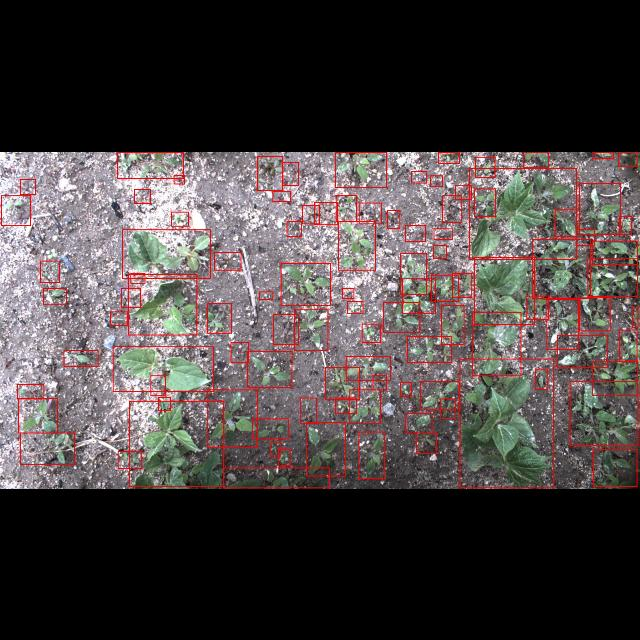crop: (460, 358, 554, 488), (469, 168, 576, 258), (128, 400, 224, 486), (112, 346, 214, 392), (122, 228, 210, 278), (128, 274, 198, 334), (474, 256, 534, 324), (472, 311, 522, 375)
weed: (570, 381, 638, 445), (532, 238, 590, 298), (207, 389, 257, 447), (306, 422, 346, 476), (224, 468, 330, 488), (281, 262, 331, 304), (580, 182, 620, 234), (338, 220, 376, 270), (588, 258, 638, 296), (20, 432, 74, 464), (117, 151, 183, 177), (336, 152, 386, 186), (593, 449, 637, 486), (546, 299, 578, 349), (557, 335, 607, 367), (248, 351, 292, 387), (592, 361, 638, 395), (294, 308, 328, 350), (18, 398, 58, 432), (358, 432, 384, 478), (406, 336, 452, 362), (402, 278, 436, 312), (420, 381, 460, 409), (592, 240, 638, 264), (400, 252, 426, 294), (325, 367, 359, 399), (384, 302, 420, 332), (346, 356, 390, 380), (350, 389, 380, 423), (580, 298, 610, 330), (442, 304, 464, 344), (2, 195, 30, 225), (258, 155, 282, 189), (431, 274, 459, 300), (252, 418, 288, 438), (207, 303, 231, 333), (274, 314, 298, 344), (474, 188, 496, 216), (442, 194, 462, 222), (556, 208, 576, 236), (64, 350, 98, 366), (314, 202, 338, 224), (527, 295, 549, 319), (336, 195, 356, 221), (406, 413, 432, 433), (452, 273, 472, 297), (620, 330, 636, 360), (215, 251, 241, 269), (40, 260, 60, 282), (360, 202, 382, 222), (416, 433, 436, 453), (475, 156, 495, 176), (118, 452, 142, 468), (300, 398, 316, 422), (18, 384, 44, 398), (362, 323, 381, 342), (231, 342, 249, 362), (121, 288, 141, 306), (44, 288, 66, 304), (282, 162, 298, 184), (302, 204, 320, 223), (524, 152, 548, 166), (150, 375, 166, 395), (336, 397, 356, 413), (440, 398, 456, 418), (405, 225, 425, 241), (576, 228, 594, 244), (618, 151, 638, 165), (20, 178, 36, 194), (286, 220, 302, 236), (110, 311, 128, 325), (618, 215, 632, 233), (536, 369, 548, 389), (172, 211, 188, 225), (134, 188, 150, 202), (373, 374, 387, 390), (455, 185, 471, 199), (278, 448, 290, 466), (388, 210, 400, 228), (438, 152, 459, 162), (273, 190, 291, 200), (434, 228, 452, 238), (158, 397, 170, 411), (348, 301, 362, 313), (412, 170, 426, 182), (434, 245, 446, 258), (401, 382, 412, 396), (270, 442, 280, 456), (131, 273, 145, 283), (430, 175, 442, 185), (593, 151, 613, 157), (632, 306, 638, 326), (259, 291, 273, 299), (342, 288, 353, 298), (174, 174, 184, 183)
